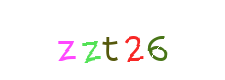2: (94, 0, 174, 80)
6: (98, 0, 178, 80)
T: (72, 0, 152, 80)
Z: (31, 0, 111, 80), (67, 0, 147, 80)
